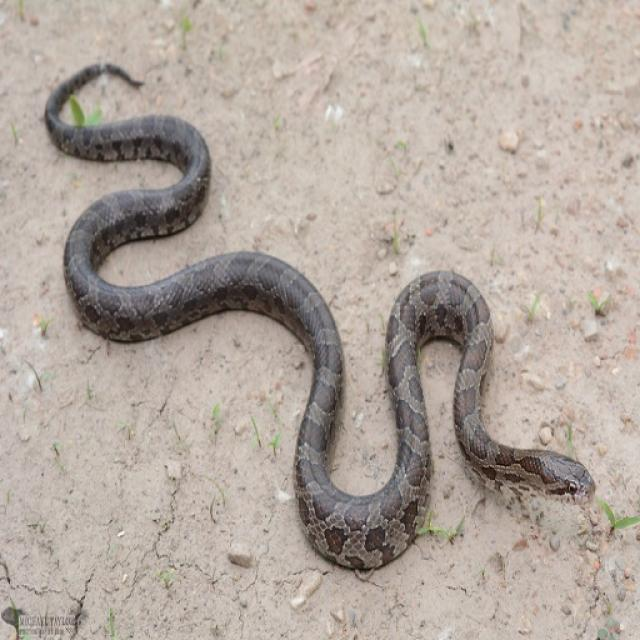snake: (46, 61, 593, 570)
